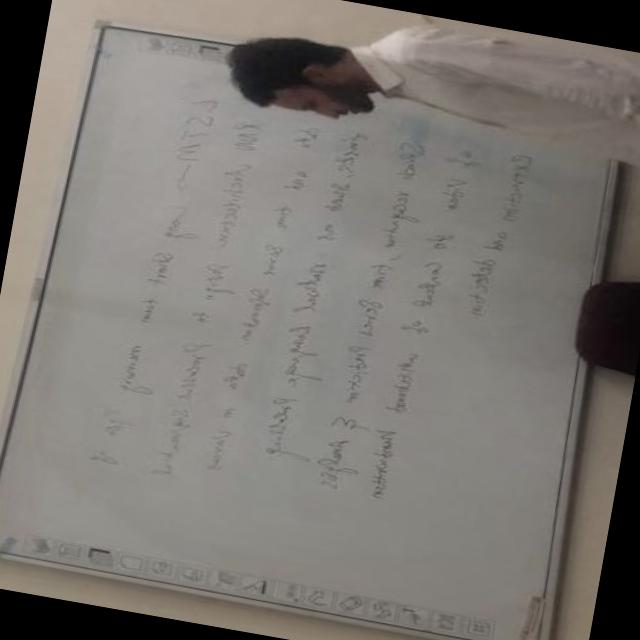Instructor: (219, 0, 640, 184)
White-board: (0, 22, 628, 640)
